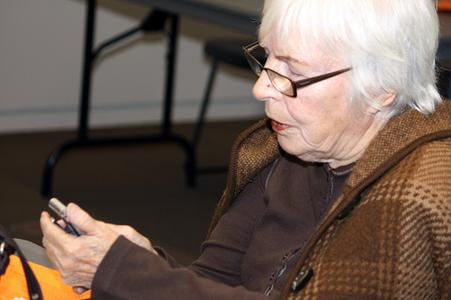person: (42, 2, 450, 300)
